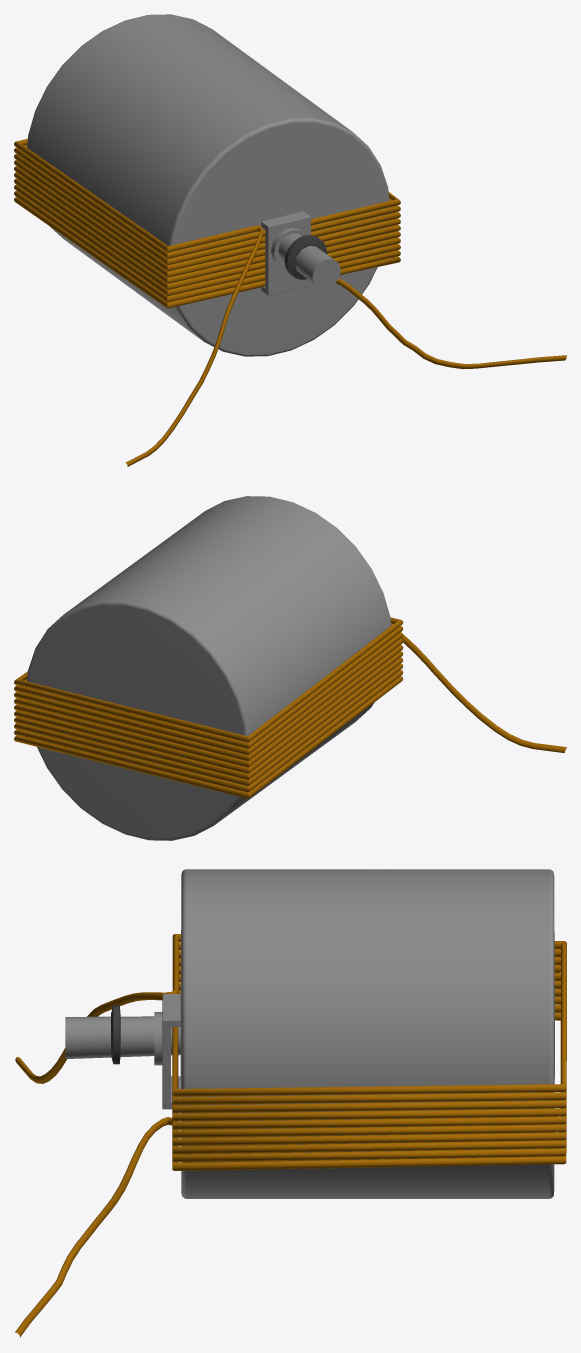
Rendered from Electromagnet.gltf.
3 views of the same model, one above another, from view 1: azimuth 30°, elevation 25°; view 2: azimuth 150°, elevation 25°; view 3: azimuth 270°, elevation 25° (orthographic). The views are drawn at different scales.
Visible parts, largest first — view 1: Electromagnet; view 2: Electromagnet; view 3: Electromagnet.
Boxes of the visible parts, x1=… form: Electromagnet: x1=14, y1=14, x2=566, y2=466; Electromagnet: x1=14, y1=496, x2=566, y2=840; Electromagnet: x1=15, y1=869, x2=566, y2=1337.
Bounding box in the file's own units: 7.87 × 4.19 × 6.64.
